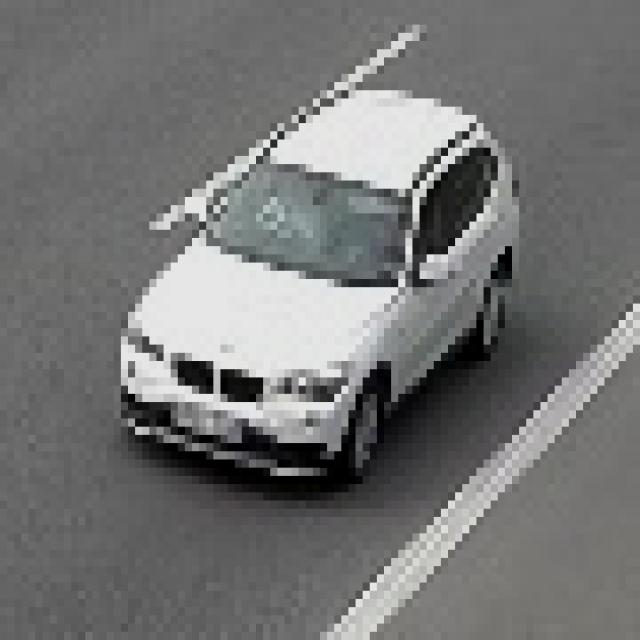SUV: (127, 94, 496, 462)
